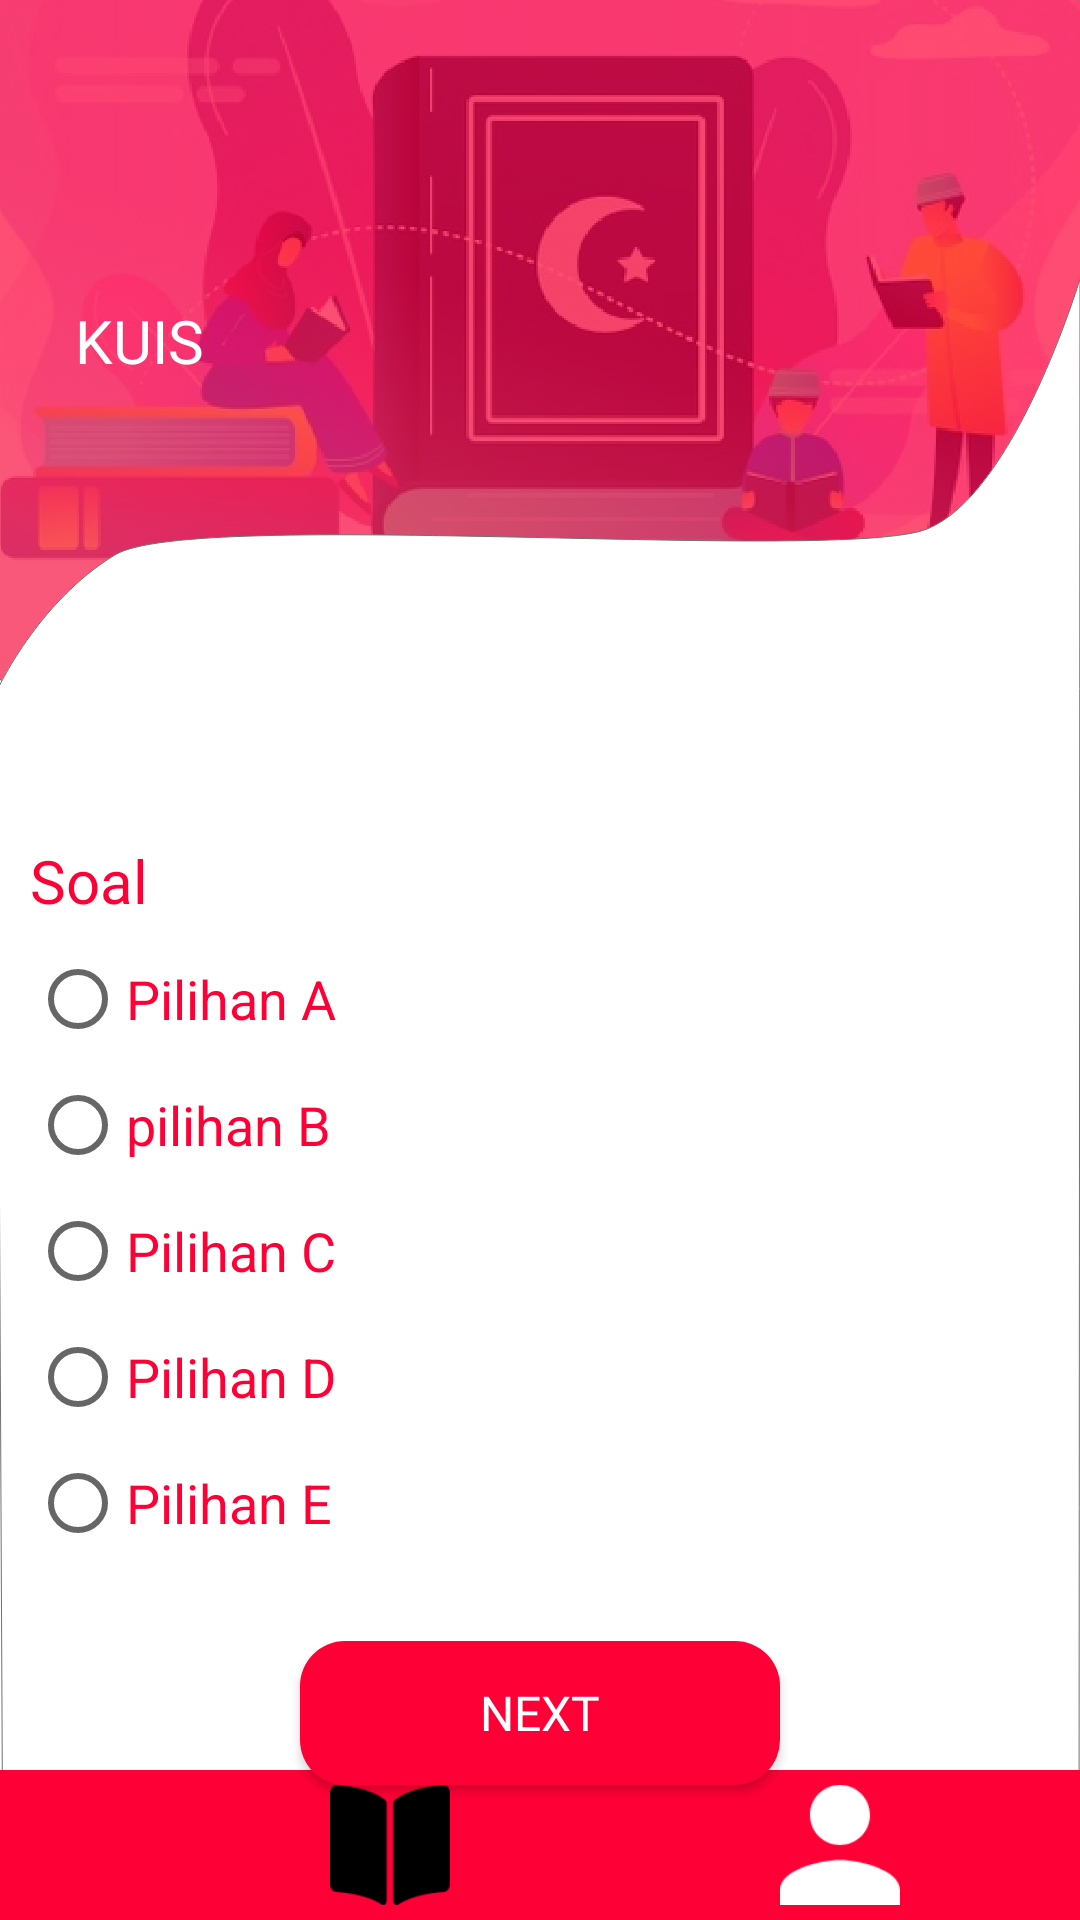

Icon bounding boxes for this 1080 × 1920 phone screenshot, format rect(x1, y1, x2, y2):
akun: rect(780, 1785, 900, 1905)
